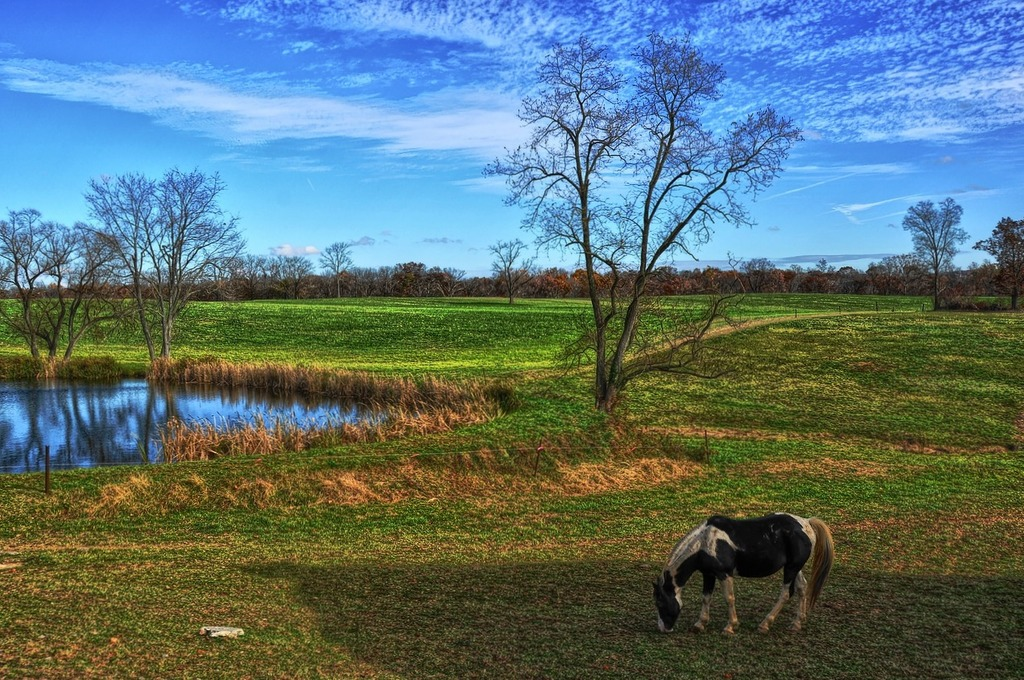horse: (658, 498, 839, 649)
